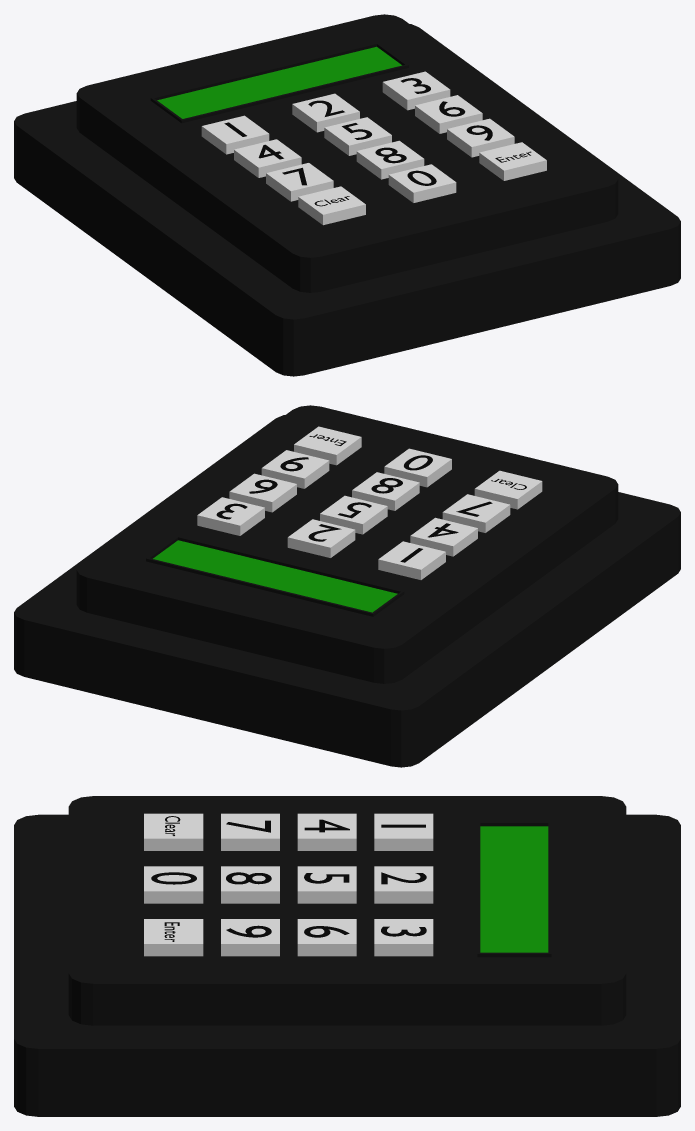
File: KeyPadLock.fbx
3 renders of one model, top to bottom at view 1: azimuth 30°, elevation 25°; view 2: azimuth 150°, elevation 25°; view 3: azimuth 270°, elevation 25°, orthographic. The views are drawn at different scales.
Parts seen in each view (by area): view 1: KeypadLock, Button-Accept, Button-Cancel, Button-0, Button-1, Button-7, Button-3, Button-2, Button-5, Button-4, Button-6, Button-9 (+1 smaller); view 2: KeypadLock, Button-1, Button-2, Button-3, Button-Cancel, Button-Accept, Button-7, Button-5, Button-4, Button-9, Button-6, Button-0 (+1 smaller); view 3: KeypadLock, Button-Accept, Button-Cancel, Button-1, Button-5, Button-2, Button-3, Button-4, Button-7, Button-6, Button-0, Button-9 (+1 smaller).
Boxes of the visible parts, x1,y1,x2,y2 form: KeypadLock: (14,14,680,376); Button-Accept: (479,142,546,180); Button-Cancel: (298,186,365,225); Button-0: (388,164,456,202); Button-1: (201,115,269,154); Button-7: (266,163,333,201); Button-3: (382,71,450,110); Button-2: (292,93,359,132); Button-5: (324,117,391,155); Button-4: (234,139,301,177); Button-6: (415,95,482,133); Button-9: (447,118,514,157); KeypadLock: (14,405,680,767); Button-1: (378,541,445,579); Button-2: (287,519,355,557); Button-3: (197,497,264,535); Button-Cancel: (474,470,542,509); Button-Accept: (294,426,361,465); Button-7: (442,494,510,532); Button-5: (320,495,387,534); Button-4: (410,517,477,556); Button-9: (261,450,329,488); Button-6: (229,473,296,512); Button-0: (384,448,451,487); KeypadLock: (14,796,680,1116); Button-Accept: (144,919,203,956); Button-Cancel: (144,813,203,850); Button-1: (374,813,433,850); Button-5: (297,866,356,903); Button-2: (374,866,433,903); Button-3: (374,919,433,956); Button-4: (297,813,356,850); Button-7: (221,813,279,850); Button-6: (297,919,356,956); Button-0: (144,866,203,903); Button-9: (221,919,279,956).
Size of the model in its own units: 50.78 by 12.39 by 61.14.
